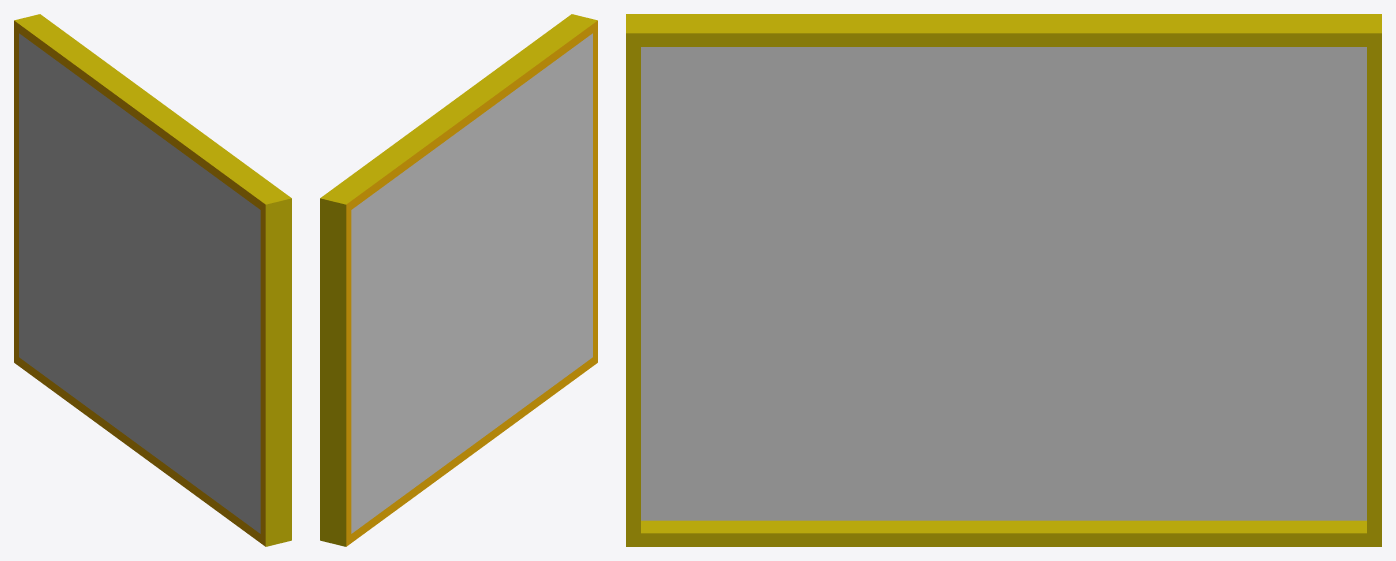
Rendered from window_4x3.dae.
The picture shows the model from 3 angles, left to right: view 1: azimuth 30°, elevation 25°; view 2: azimuth 150°, elevation 25°; view 3: azimuth 270°, elevation 25°; orthographic projection. The views are drawn at different scales.
Parts seen in each view (by area): view 1: Cube; view 2: Cube; view 3: Cube.
Part boxes in pixels (box(x1,y1,x2,y2)): Cube: box(14, 14, 291, 546); Cube: box(320, 14, 597, 546); Cube: box(626, 14, 1381, 546).
Bounding box in the file's own units: 0.06 × 1 × 0.75.
